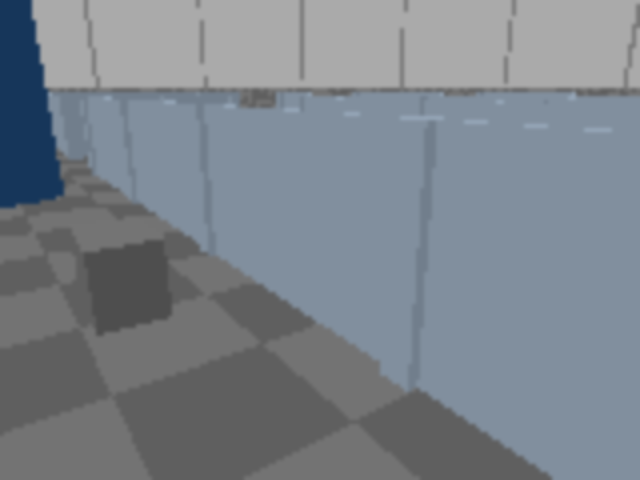person: (0, 0, 63, 206)
